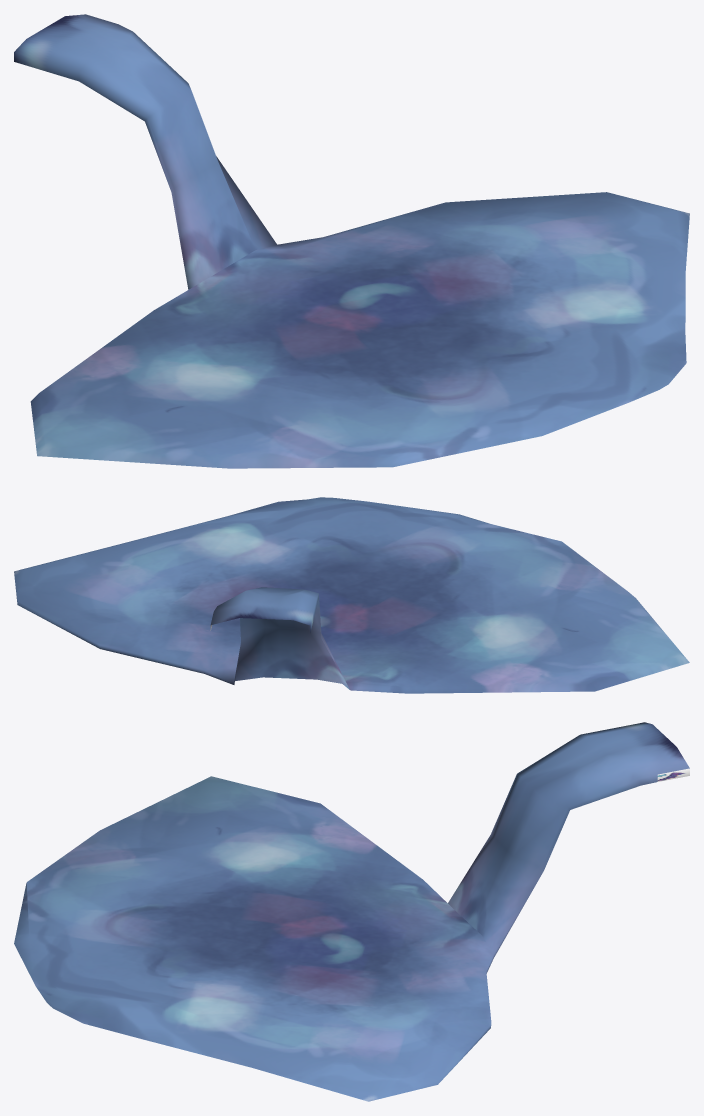
Rendered from Goo2-1.FBX.
The picture shows the model from 3 angles, top to bottom: view 1: azimuth 30°, elevation 25°; view 2: azimuth 150°, elevation 25°; view 3: azimuth 270°, elevation 25°; orthographic projection. The views are drawn at different scales.
Parts seen in each view (by area): view 1: Box013; view 2: Box013; view 3: Box013.
Part boxes in pixels (box(x1,y1,x2,y2)): Box013: box(14, 14, 689, 468); Box013: box(14, 497, 689, 693); Box013: box(14, 722, 689, 1101).
Bounding box in the file's own units: 16.44 × 3.92 × 14.63.
